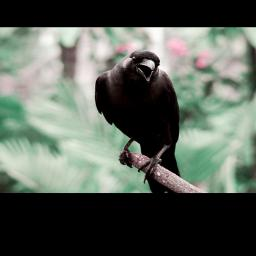Crow: (94, 49, 182, 192)
